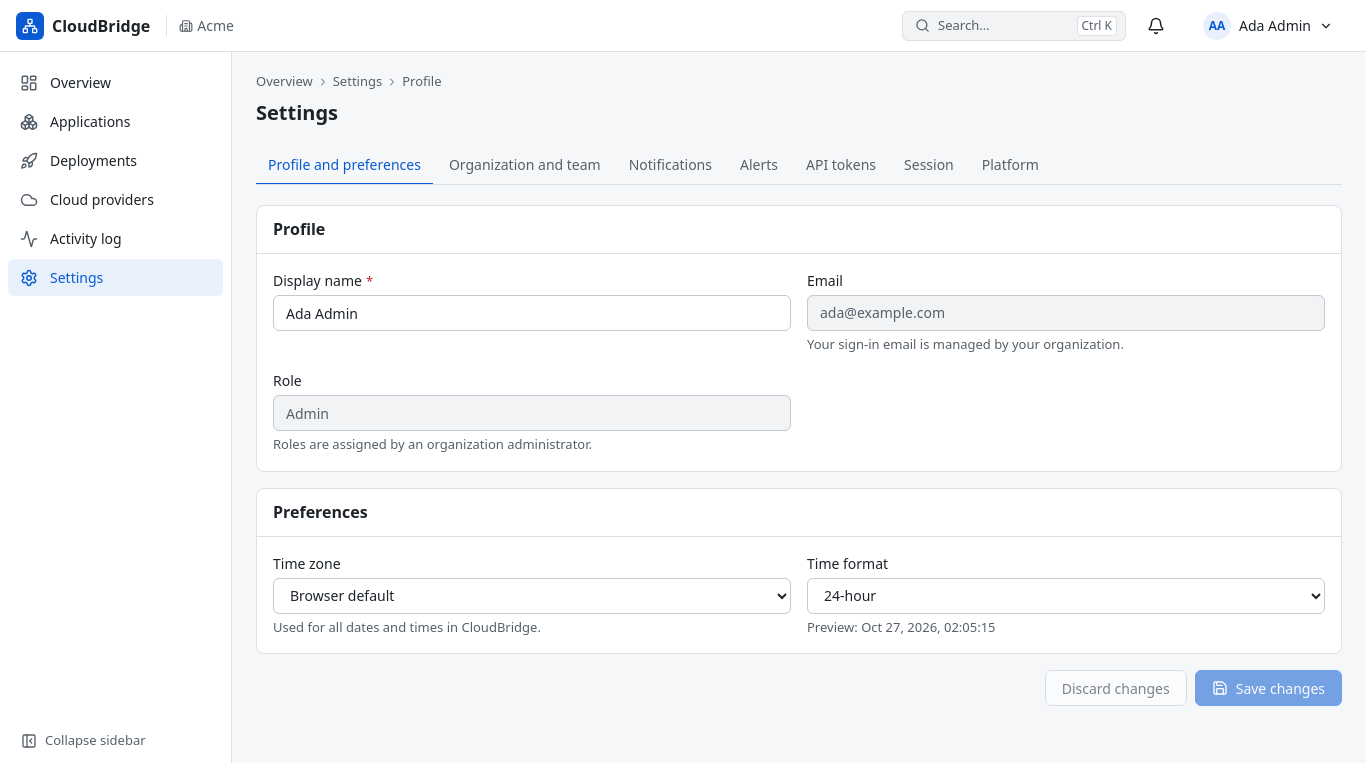
Test: settings › saves the profile and updates the header
Clear the field labelled "Display name*": (532, 313) x1=273 y1=295 x2=791 y2=331
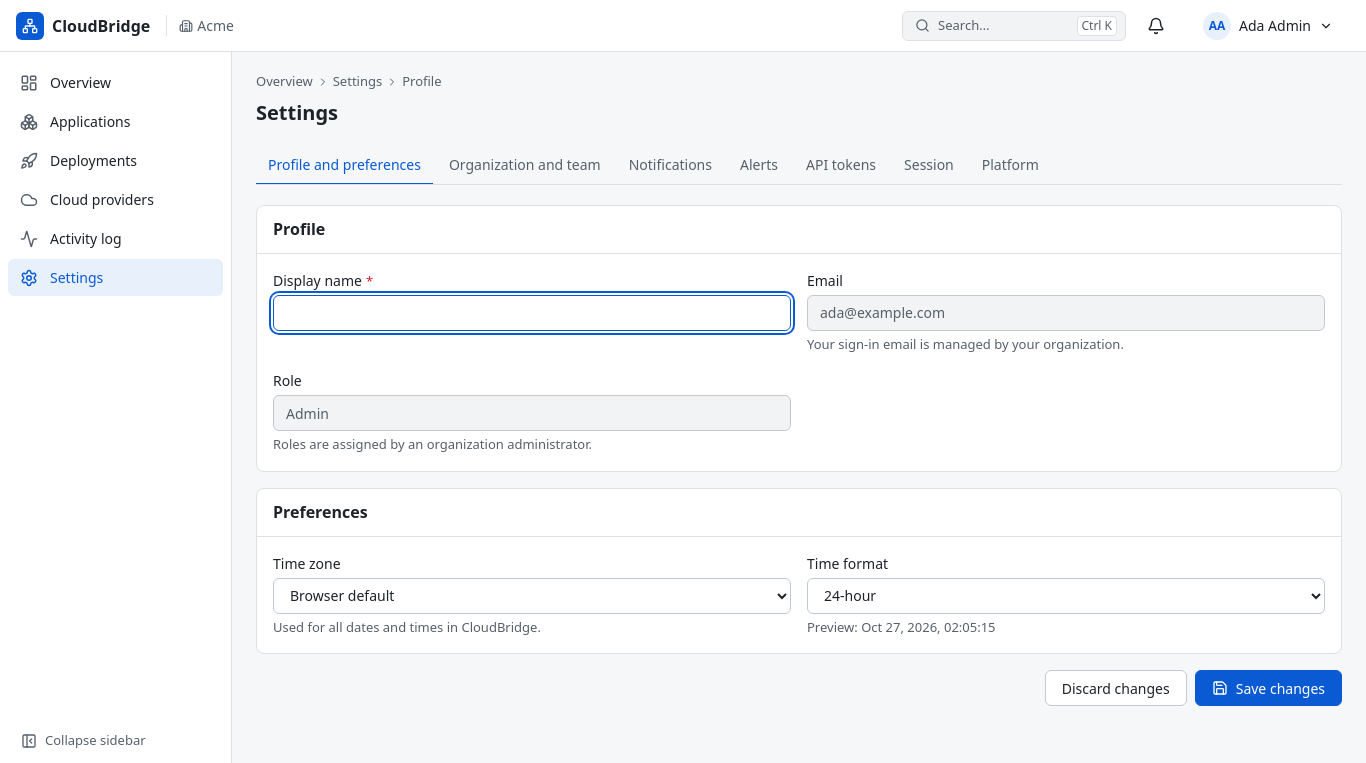
Click the button "Save changes": click(1268, 688) x1=1195 y1=670 x2=1342 y2=706
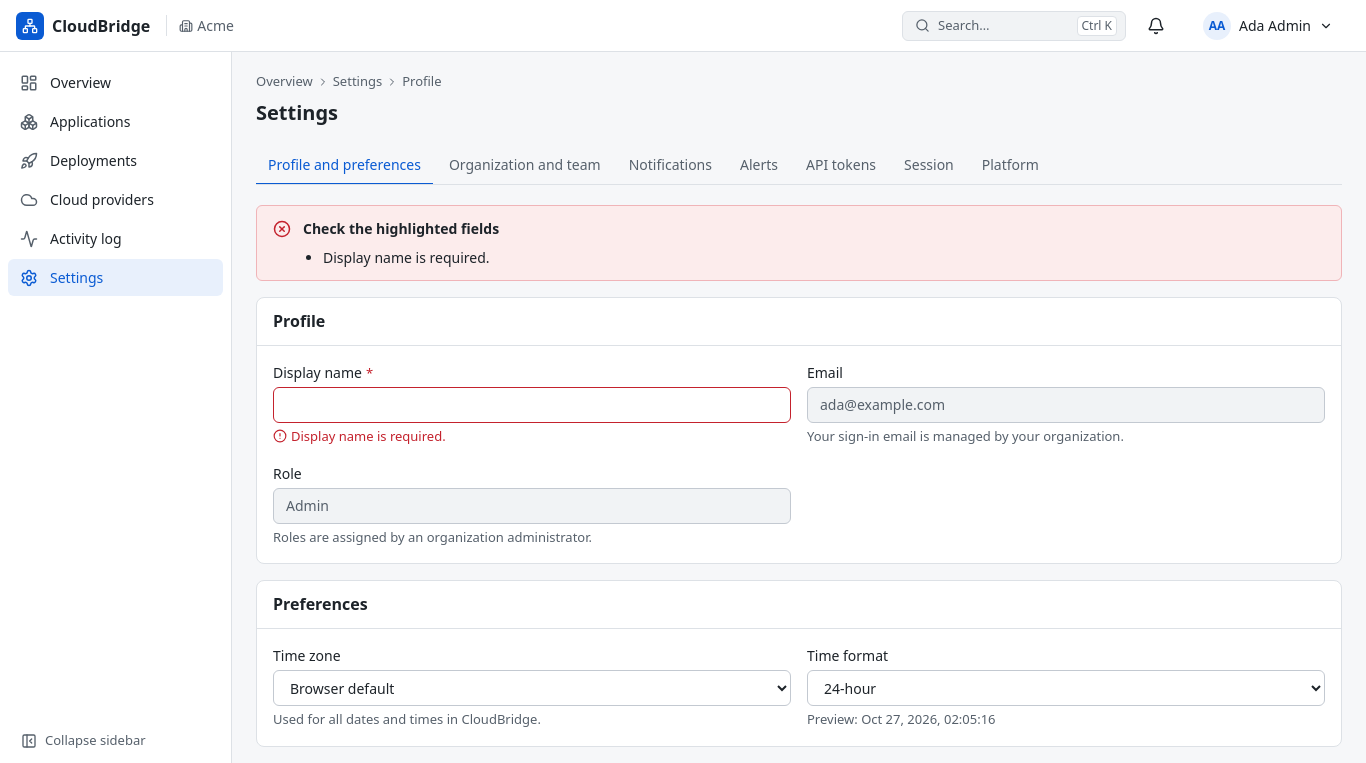
Expected: the list item "Display name is required." is shown, x1=323 y1=248 x2=490 y2=266
In the field labelled "Display name*": (532, 405) x1=273 y1=387 x2=791 y2=423, type "Ada Lovelace"
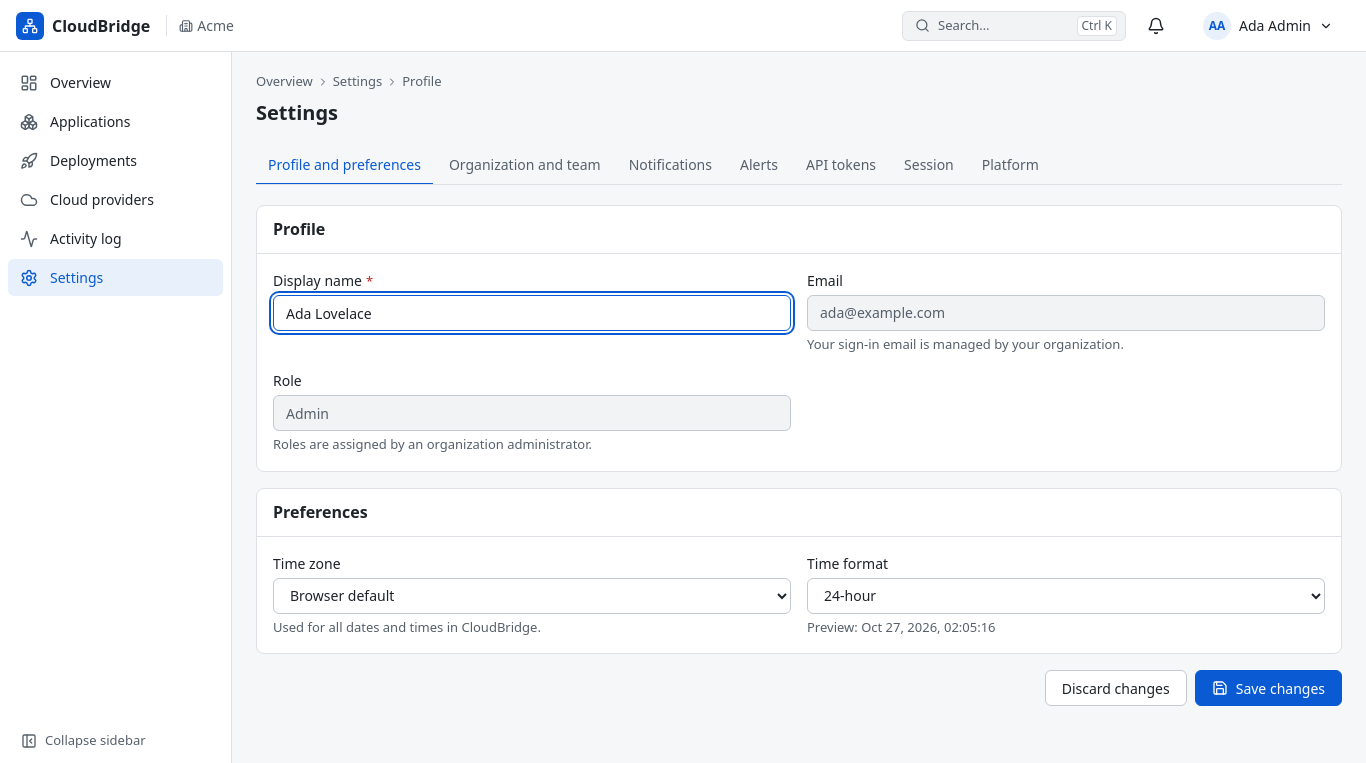
Click the button "Save changes": click(1268, 688) x1=1195 y1=670 x2=1342 y2=706
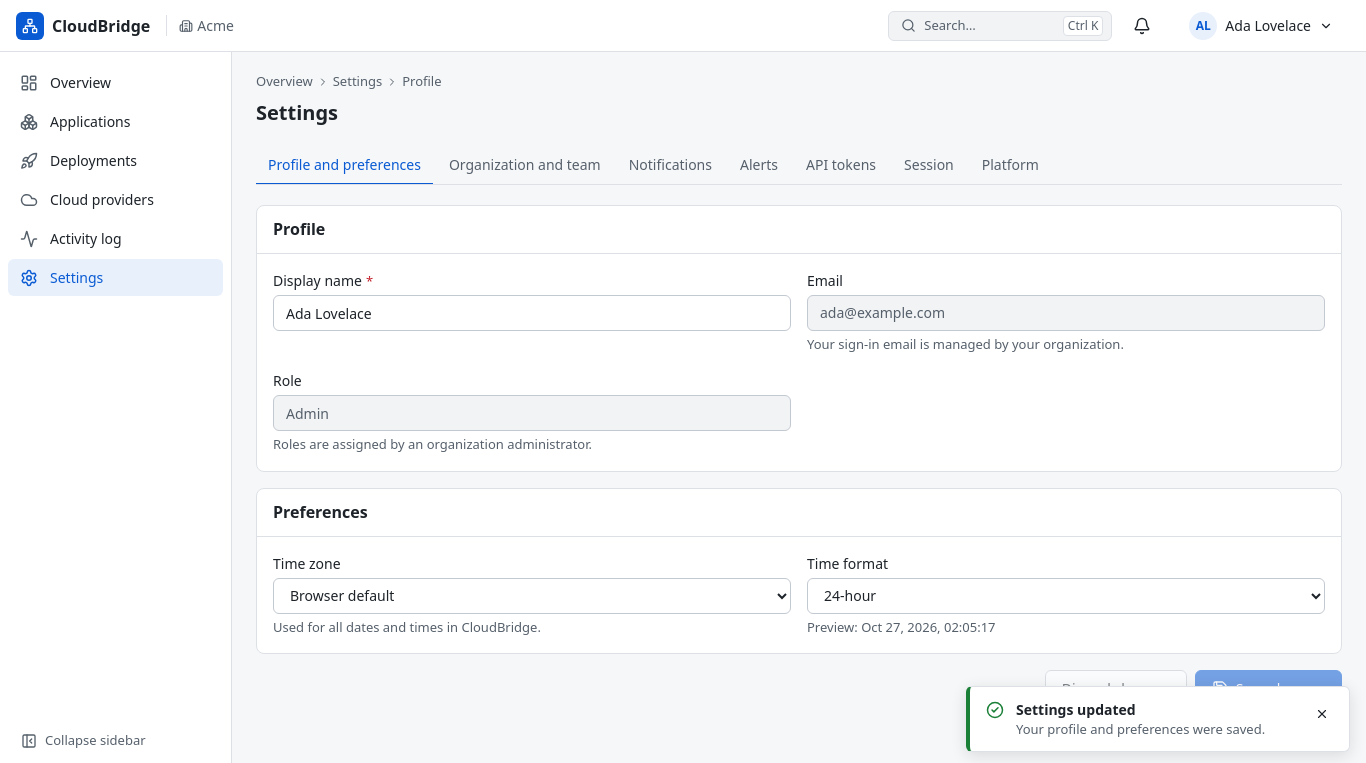
Expected: the text "Settings updated" is shown, x1=1016 y1=700 x2=1136 y2=718
Expected: the button "AL Ada Lovelace" is shown, x1=1172 y1=8 x2=1350 y2=44
